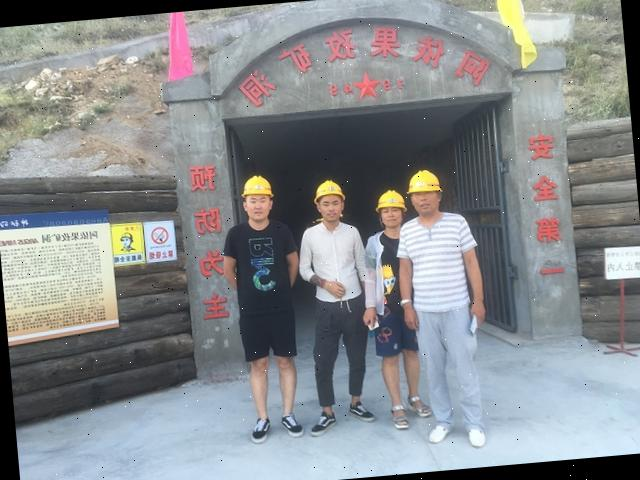helmet: (406, 166, 444, 196), (239, 173, 275, 200), (312, 177, 347, 203), (374, 188, 406, 214)
no_wear: (399, 214, 474, 314), (228, 220, 296, 314), (361, 224, 416, 318), (305, 223, 367, 303)
